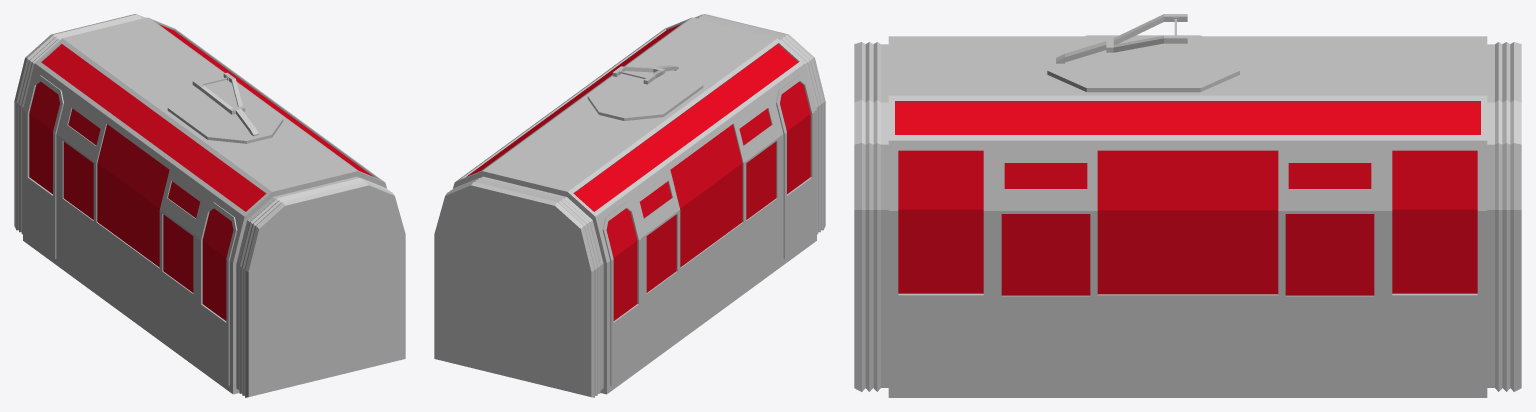
File: SM_tram_02.gltf
The picture shows the model from 3 angles, left to right: view 1: azimuth 30°, elevation 25°; view 2: azimuth 150°, elevation 25°; view 3: azimuth 270°, elevation 25°; orthographic projection. The views are drawn at different scales.
Visible parts, largest first — view 1: tram_02; view 2: tram_02; view 3: tram_02.
Boxes of the visible parts, x1,y1,x2,y2 form: tram_02: [14, 14, 405, 397]; tram_02: [434, 14, 825, 397]; tram_02: [854, 14, 1521, 397].
Bounding box in the file's own units: 1.63 × 2.08 × 4.
